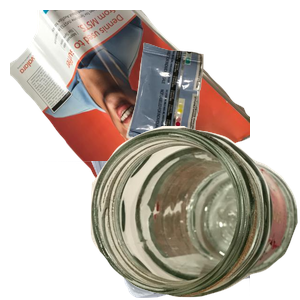glass: (90, 126, 300, 300)
paper: (10, 10, 250, 190)
plastic: (23, 161, 263, 300)
trash: (124, 40, 300, 188)
